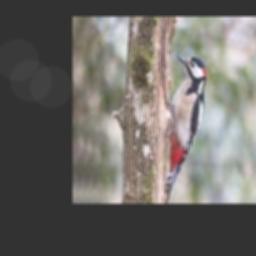Woodpecker: (164, 53, 206, 203)
